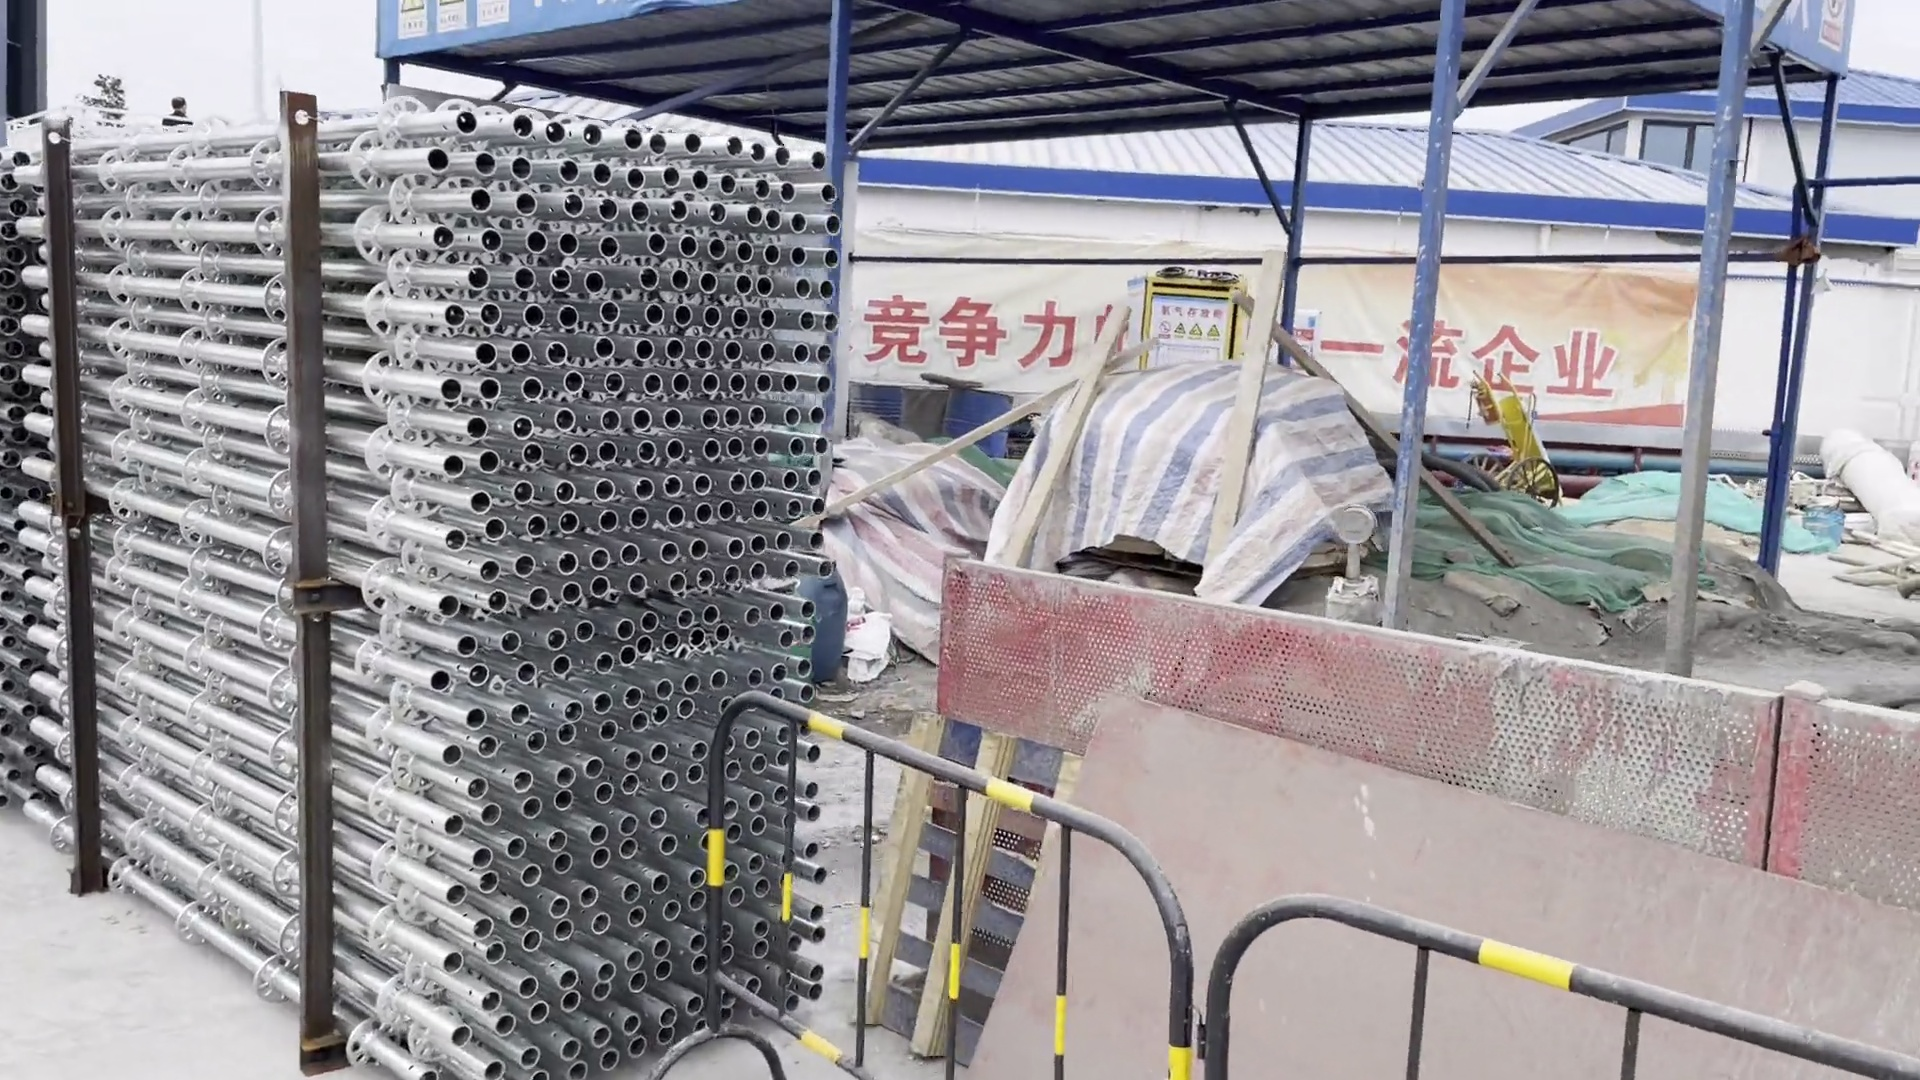scaffold: (70, 83, 891, 1072), (1, 76, 73, 862)
